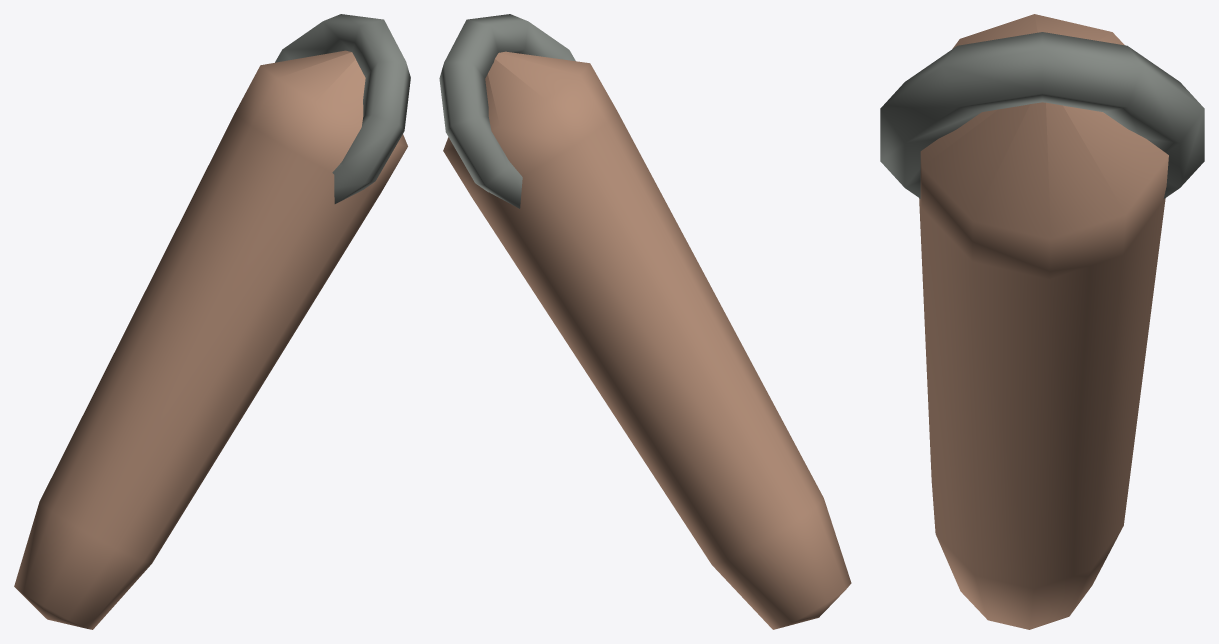
The model's file is forearm_R.obj.
3 views of the same model, side by side, from view 1: azimuth 30°, elevation 25°; view 2: azimuth 150°, elevation 25°; view 3: azimuth 270°, elevation 25° (orthographic). The views are drawn at different scales.
Parts seen in each view (by area): view 1: forearm_R; view 2: forearm_R; view 3: forearm_R.
Part boxes in pixels (<box>): forearm_R: <box>14,14,410,629</box>; forearm_R: <box>439,14,851,629</box>; forearm_R: <box>880,14,1204,629</box>.
Bounding box in the file's own units: 0.2203 × 0.2927 × 0.1064.
